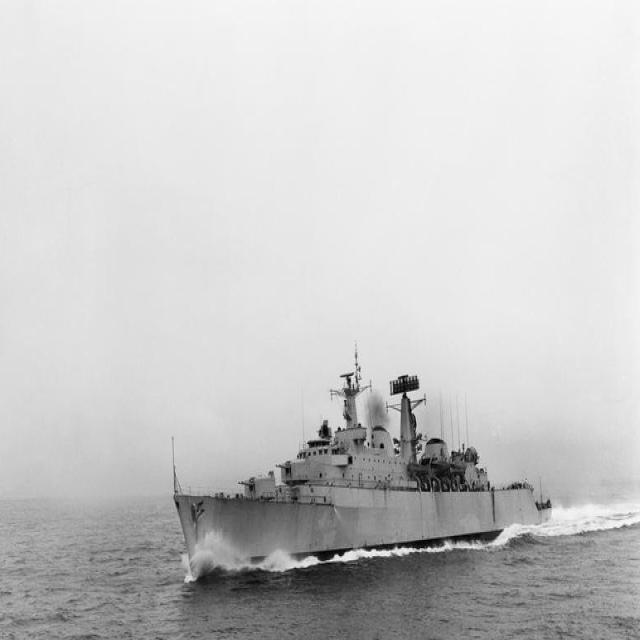navalvessels: (162, 385, 571, 583)
